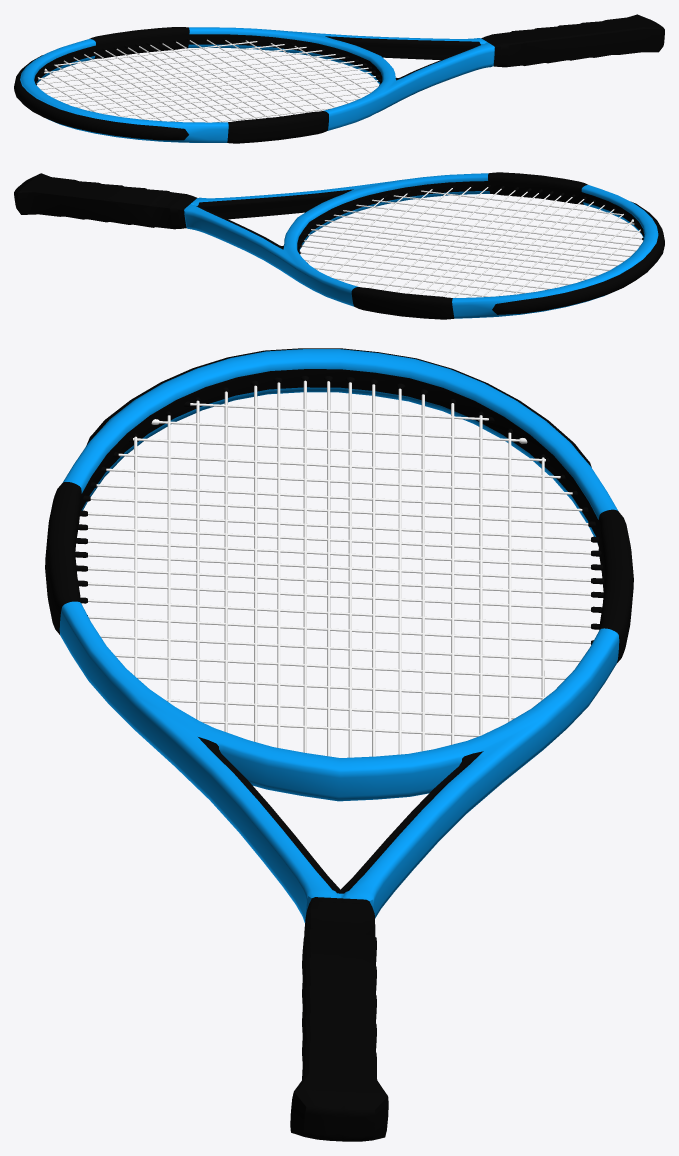
File: TennisRacket.glb
3 renders of one model, top to bottom at view 1: azimuth 30°, elevation 25°; view 2: azimuth 150°, elevation 25°; view 3: azimuth 270°, elevation 25°, orthographic. The views are drawn at different scales.
Visible parts, largest first — view 1: Tennis Racket_03 - Default_0, Tennis Racket_07 - Default_0, Tennis Racket_02 - Default_0; view 2: Tennis Racket_03 - Default_0, Tennis Racket_07 - Default_0, Tennis Racket_02 - Default_0; view 3: Tennis Racket_02 - Default_0, Tennis Racket_07 - Default_0, Tennis Racket_03 - Default_0.
Part boxes in pixels (x1,y1,x2,y2): Tennis Racket_03 - Default_0: (14, 14, 664, 143); Tennis Racket_07 - Default_0: (37, 39, 378, 122); Tennis Racket_02 - Default_0: (20, 27, 494, 142); Tennis Racket_03 - Default_0: (14, 172, 664, 319); Tennis Racket_07 - Default_0: (300, 187, 641, 297); Tennis Racket_02 - Default_0: (184, 173, 658, 318); Tennis Racket_02 - Default_0: (59, 349, 619, 922); Tennis Racket_07 - Default_0: (88, 380, 590, 757); Tennis Racket_03 - Default_0: (45, 348, 633, 1141).
Bounding box in the file's own units: 2.73 × 0.4164 × 1.11.
